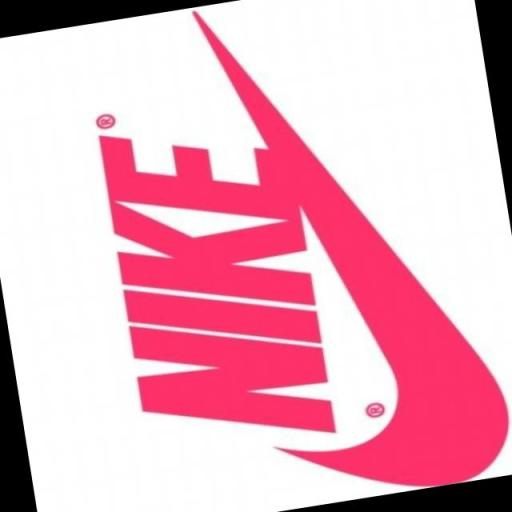Nike: (233, 41, 512, 507), (94, 102, 340, 464)
